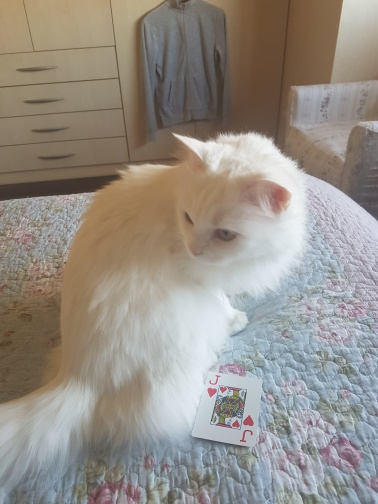jack: (192, 371, 262, 447)
